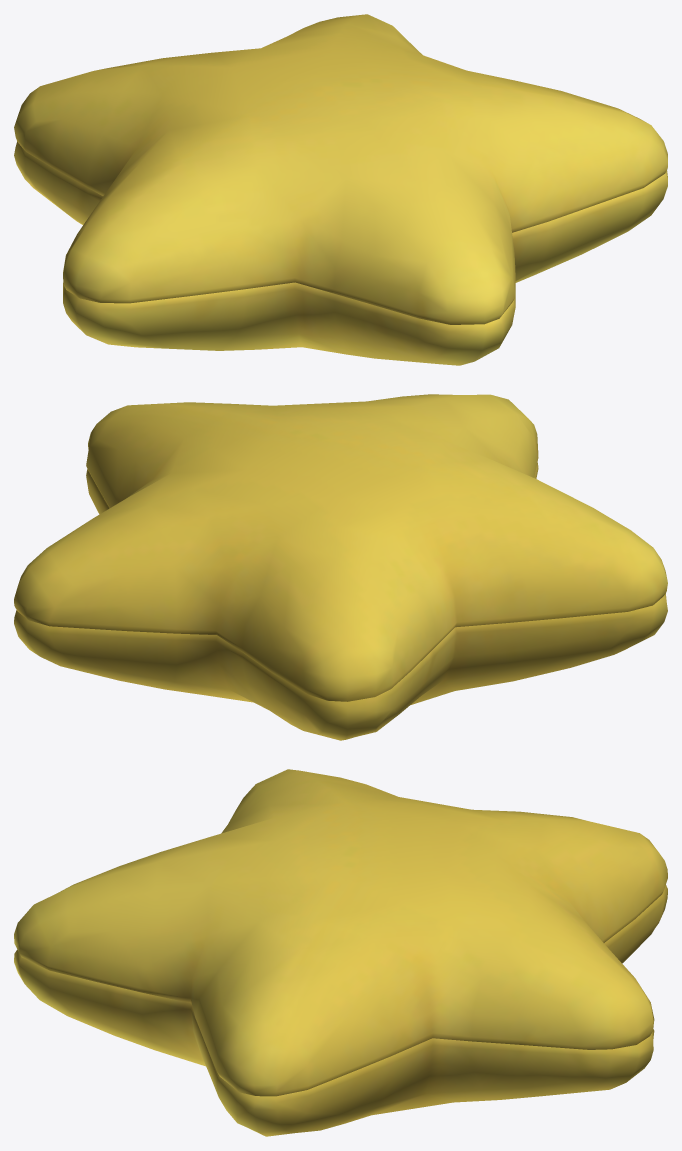
The model's file is Star.fbx.
3 renders of one model, top to bottom at view 1: azimuth 30°, elevation 25°; view 2: azimuth 150°, elevation 25°; view 3: azimuth 270°, elevation 25°, orthographic.
Visible parts, largest first — view 1: PRP_S04_Star_0; view 2: PRP_S04_Star_0; view 3: PRP_S04_Star_0.
Part boxes in pixels (left/top/right/bottom): PRP_S04_Star_0: left=14, top=14, right=667, bottom=365; PRP_S04_Star_0: left=14, top=394, right=667, bottom=740; PRP_S04_Star_0: left=14, top=769, right=667, bottom=1136.
Size of the model in its own units: 9.79 by 3.68 by 9.4.
